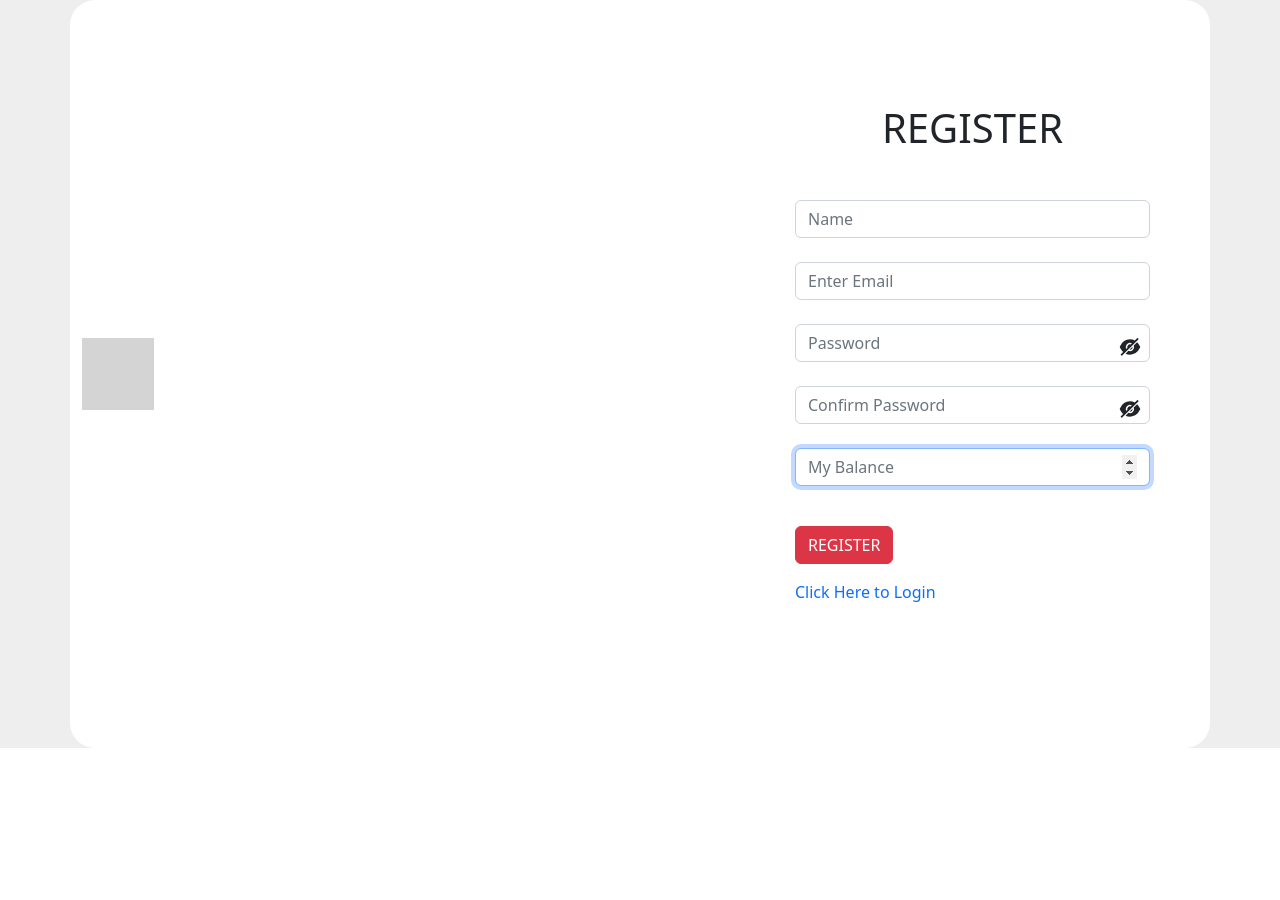
Scenario: RegisterScreen › eyebutton onclick › should rendering for open and close of eye button password
The image size is (1280, 900).
What coordinates should you click on to do the following:
click the icon with test id "popenbutton"
I would click on:
 (1130, 347)
Its box is [1118,335,1142,359].
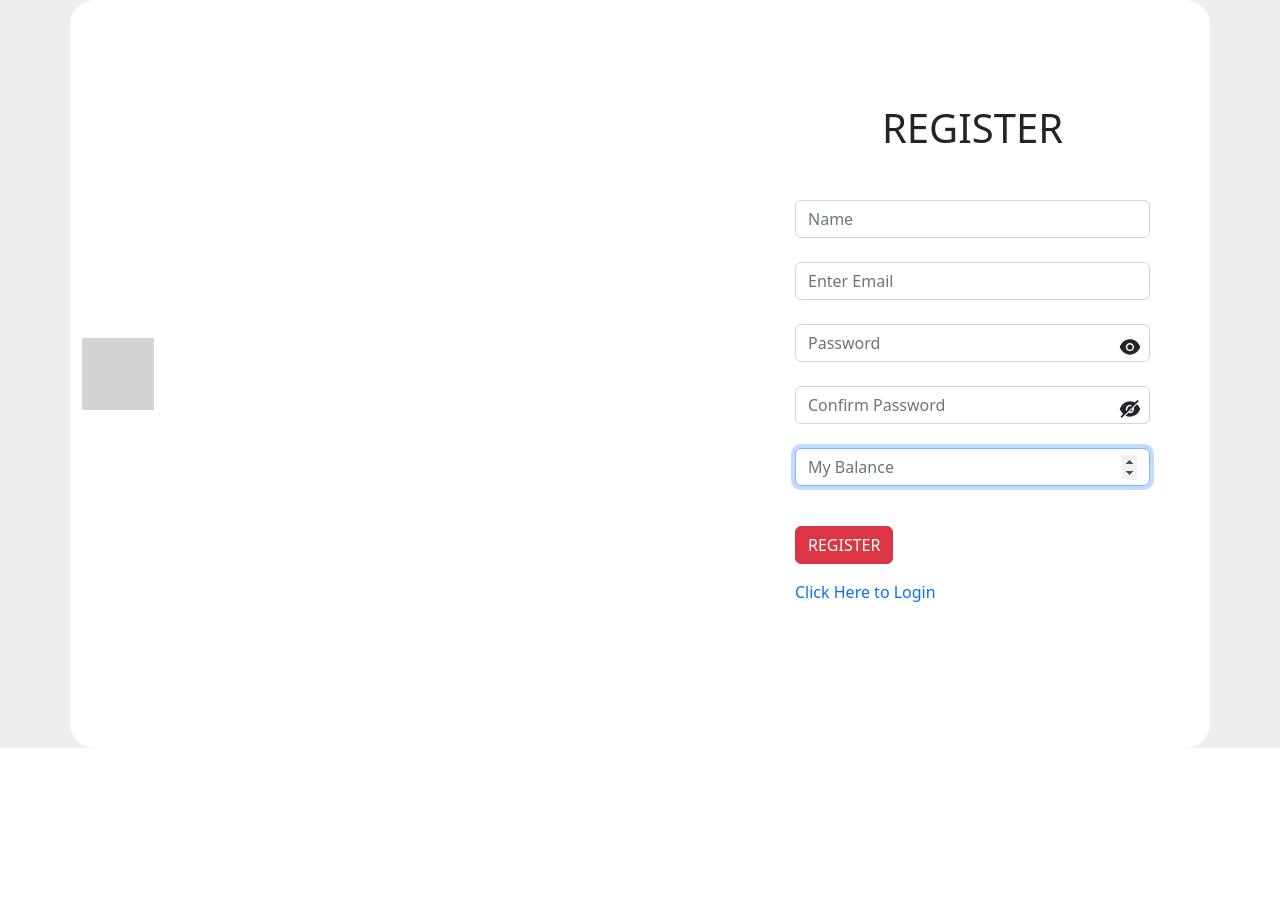
Now the icon with test id "popenbutton" is gone
Now the icon with test id "pclosebutton" is shown
What coordinates should you click on to do the following:
click the icon with test id "pclosebutton"
I would click on:
 (1130, 347)
Its box is [1118,335,1142,359].
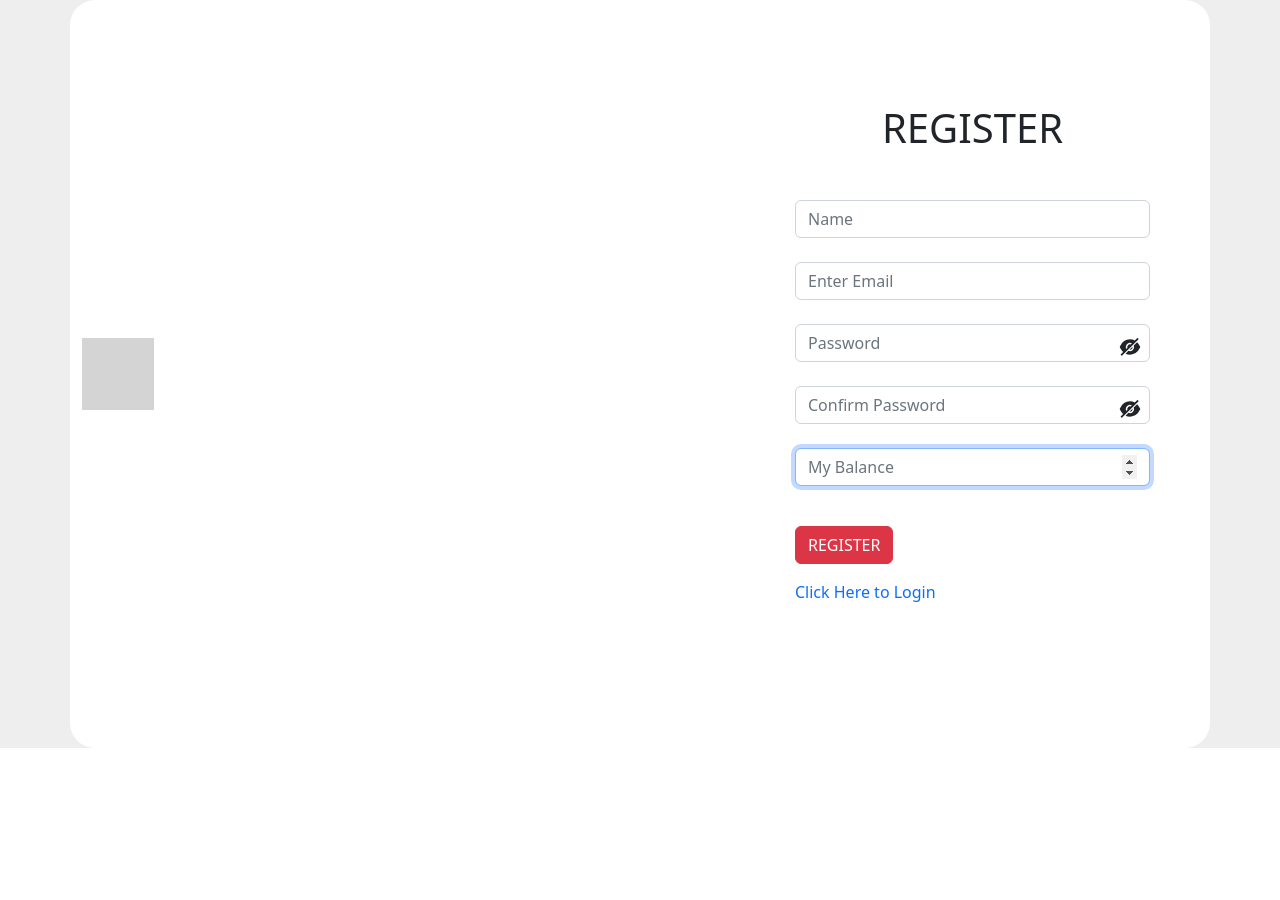
Now the icon with test id "popenbutton" is shown, box [1118,335,1142,359]
Now the icon with test id "pclosebutton" is gone
